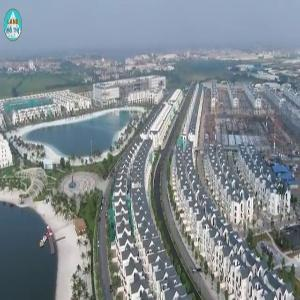drone: (172, 242, 231, 300)
